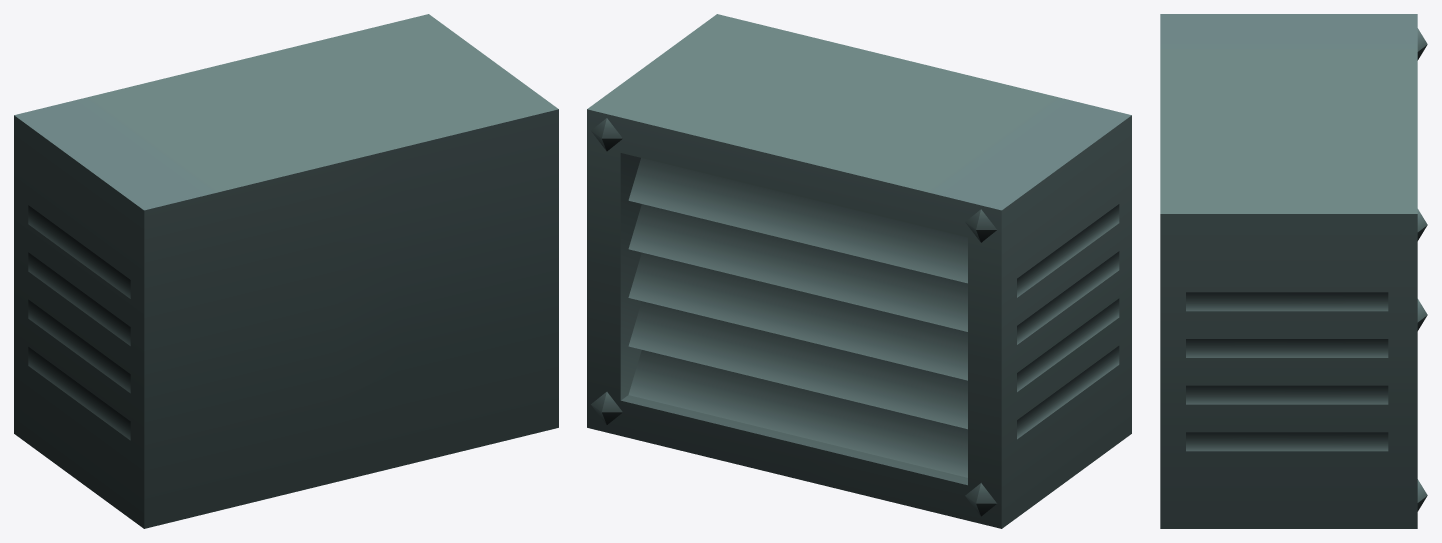
Rendered from Air_Conditioner_2A.fbx.
3 renders of one model, left to right at view 1: azimuth 30°, elevation 25°; view 2: azimuth 150°, elevation 25°; view 3: azimuth 270°, elevation 25°, orthographic.
Visible parts, largest first — view 1: Air_Conditioner_2A; view 2: Air_Conditioner_2A; view 3: Air_Conditioner_2A.
Boxes of the visible parts, x1,y1,x2,y2 form: Air_Conditioner_2A: [14, 14, 558, 528]; Air_Conditioner_2A: [587, 14, 1131, 528]; Air_Conditioner_2A: [1160, 14, 1427, 528].
Bounding box in the file's own units: 184 × 135 × 104.
